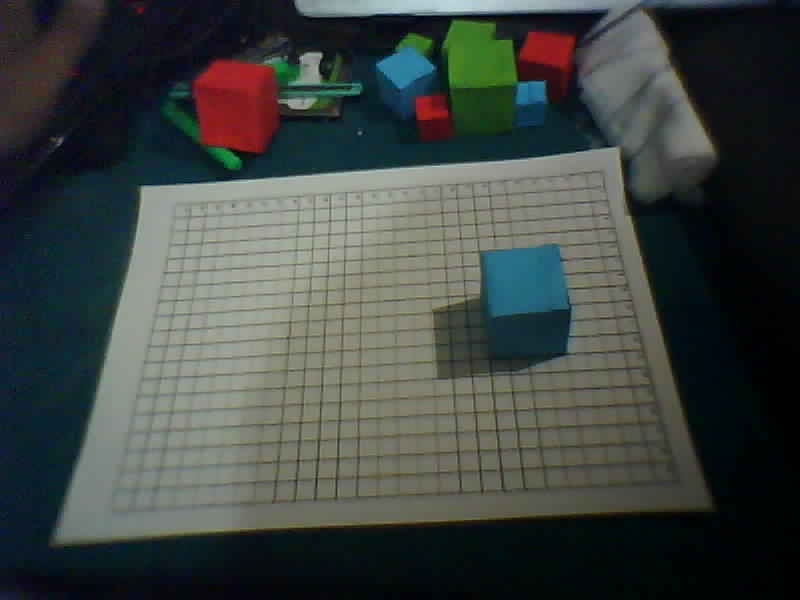LB: (107, 507, 115, 513)
LT: (170, 201, 178, 207)
RB: (674, 479, 682, 485)
RT: (598, 169, 606, 175)
